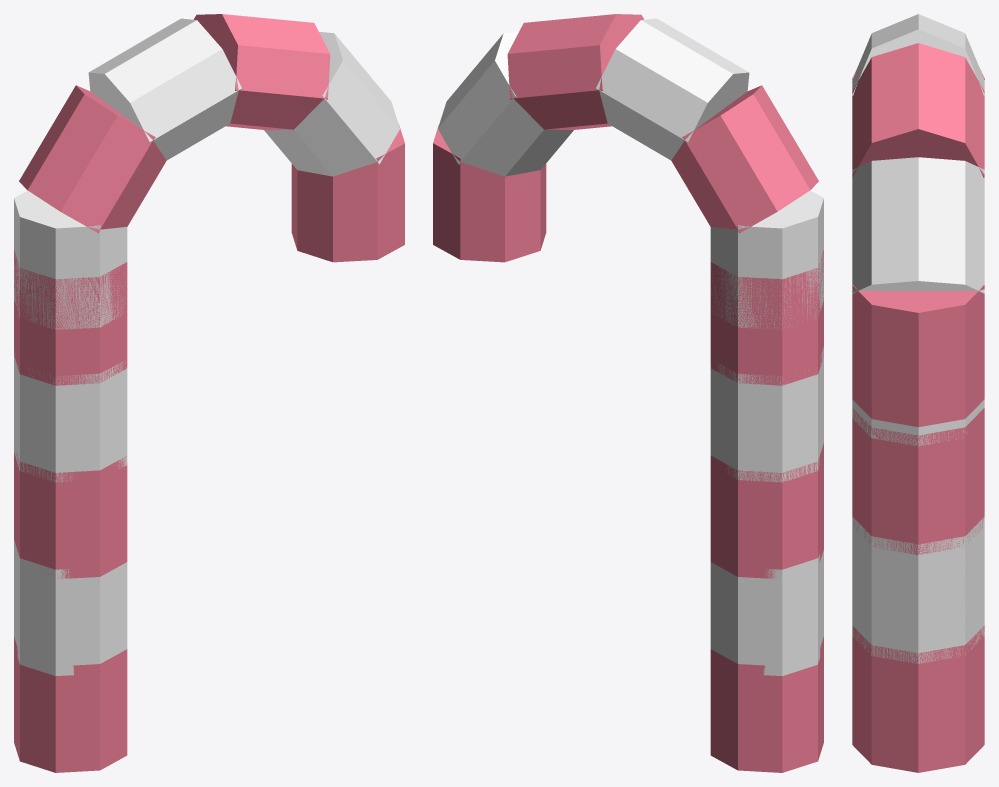
The model's file is CF_CandyCane.fbx.
The picture shows the model from 3 angles, left to right: view 1: azimuth 30°, elevation 25°; view 2: azimuth 150°, elevation 25°; view 3: azimuth 270°, elevation 25°; orthographic projection. The views are drawn at different scales.
Visible parts, largest first — view 1: CF_CandyCane_Red, CF_CandyCane_White; view 2: CF_CandyCane_Red, CF_CandyCane_White; view 3: CF_CandyCane_Red, CF_CandyCane_White.
Boxes of the visible parts, box(x1,y1,x2,y2) form: CF_CandyCane_Red: box(14, 14, 404, 772); CF_CandyCane_White: box(14, 18, 399, 676); CF_CandyCane_Red: box(433, 14, 823, 772); CF_CandyCane_White: box(438, 18, 823, 676); CF_CandyCane_Red: box(852, 43, 984, 772); CF_CandyCane_White: box(852, 14, 984, 663).
Bounding box in the file's own units: 4.1 × 7.21 × 1.1.
